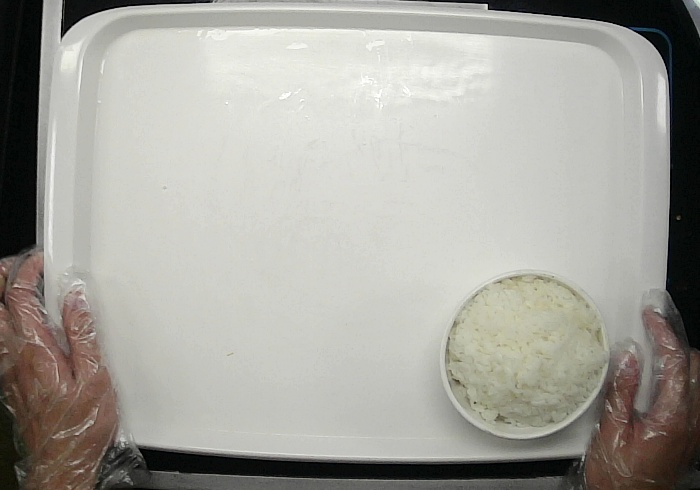HZYJPL-Fan_Wan: (439, 269, 611, 439)
